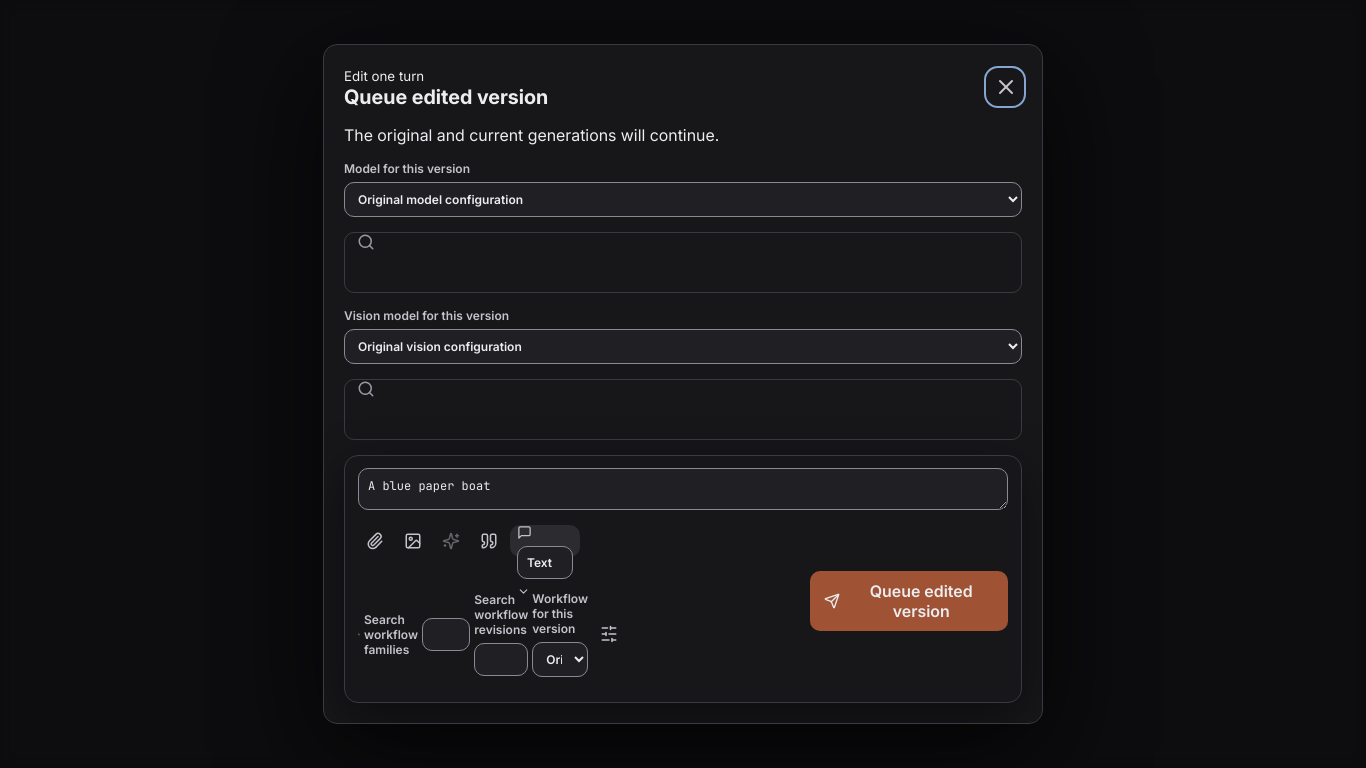
asks for vision-capable profile pages and resolves the selected identity separately
Check: the text box named "Message" is shown, box left=358, top=468, right=1008, bottom=510
Select "Model 1" in the dropdown labelled "Vision model for this version" at x=683, y=346, box left=344, top=329, right=1022, bottom=364
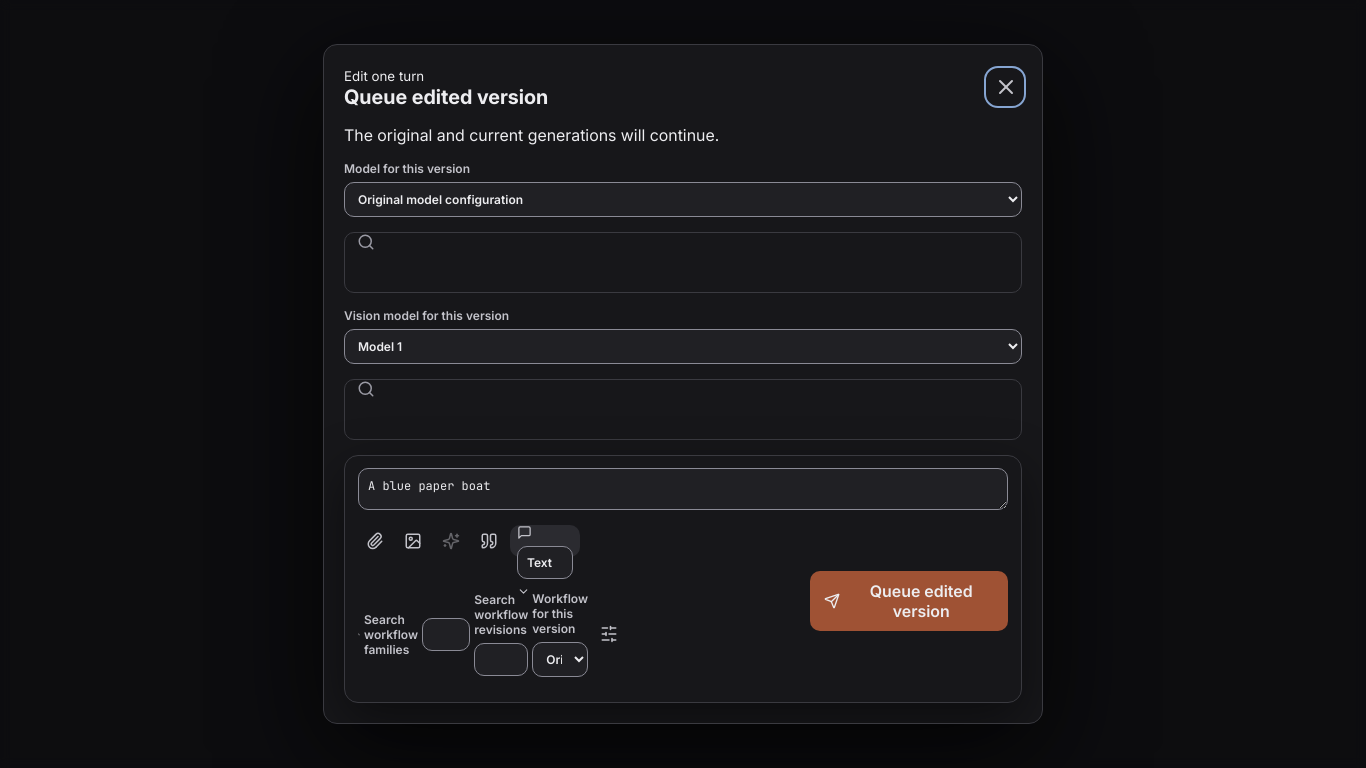
Click the button "Queue edited version" at x=909, y=601, box left=810, top=571, right=1008, bottom=631
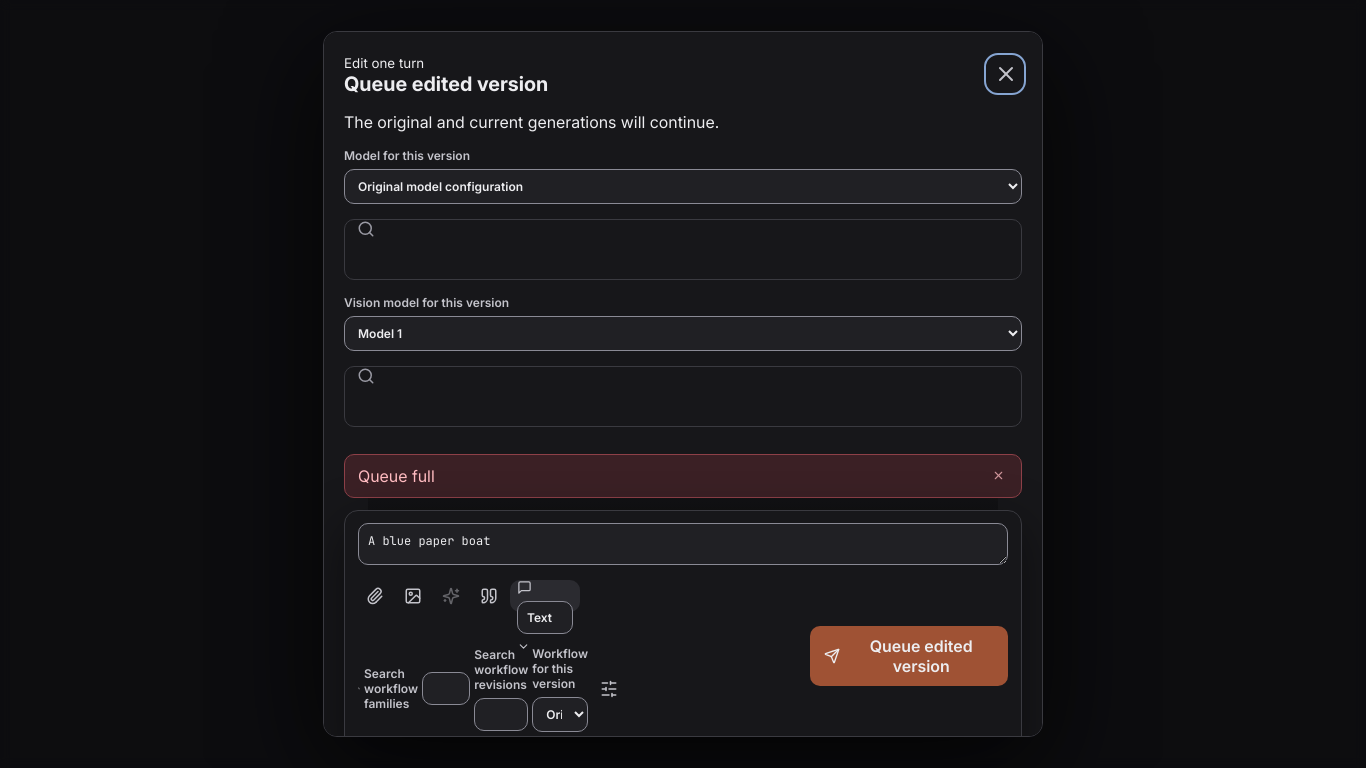
Check: the text "Queue full" is shown, box left=358, top=466, right=435, bottom=486
